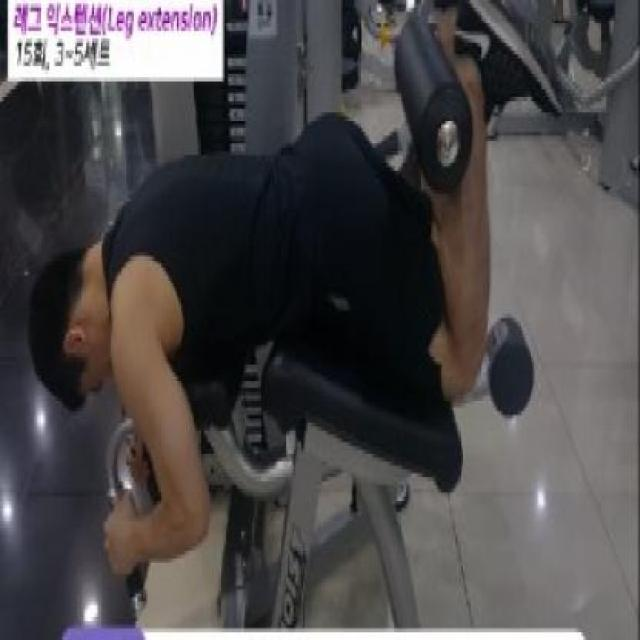reg curl machine: (29, 0, 569, 634)
